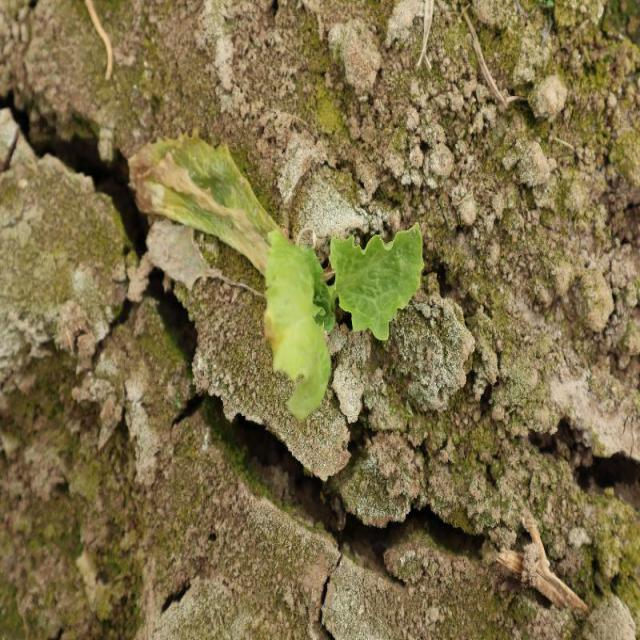crop: (261, 227, 428, 422)
